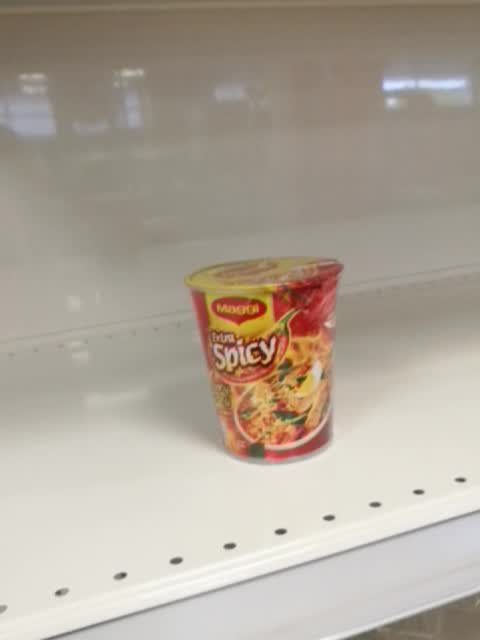maggi: (183, 256, 346, 464)
